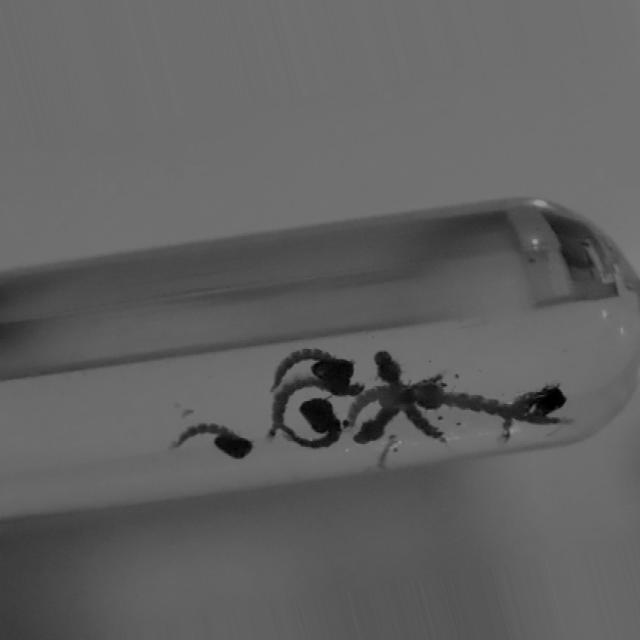larvas: (373, 342, 447, 451), (418, 379, 562, 429), (339, 370, 441, 428), (269, 379, 360, 436), (279, 390, 343, 462), (273, 345, 349, 387), (176, 421, 252, 459), (516, 383, 564, 410), (358, 405, 387, 448)
